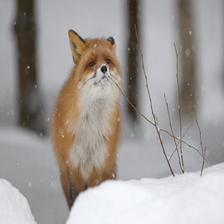fox: (56, 25, 136, 224)
